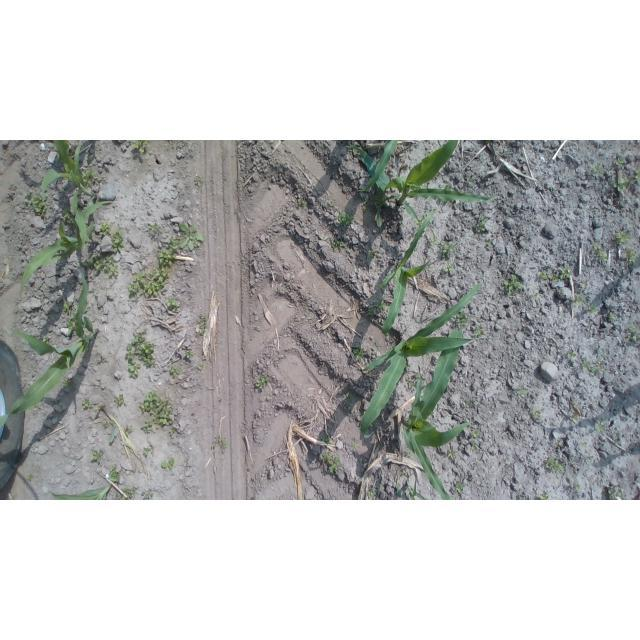Maize: (358, 282, 482, 442), (1, 271, 100, 430), (349, 140, 500, 229), (400, 328, 477, 500), (20, 200, 114, 298), (380, 209, 433, 334), (42, 141, 98, 248), (52, 483, 112, 500), (395, 478, 429, 500)
Weeds: (125, 330, 155, 378), (140, 391, 173, 434), (141, 267, 172, 297), (81, 254, 119, 276), (178, 224, 204, 253), (156, 235, 180, 266), (24, 191, 48, 221), (128, 271, 146, 302), (321, 451, 340, 474), (503, 275, 522, 296), (81, 166, 98, 188), (61, 207, 77, 229), (613, 177, 635, 192), (591, 243, 608, 262), (368, 298, 387, 315), (335, 211, 356, 226), (455, 310, 471, 329), (112, 230, 125, 253), (440, 241, 457, 257), (165, 296, 181, 313), (546, 457, 564, 472), (616, 231, 633, 246), (625, 246, 639, 264), (371, 196, 386, 211), (255, 376, 271, 390), (65, 314, 76, 334), (476, 214, 487, 233), (131, 140, 147, 153), (591, 361, 605, 375), (98, 221, 111, 236), (147, 223, 164, 234), (109, 466, 120, 483), (353, 347, 365, 362), (91, 450, 104, 463), (161, 458, 175, 470), (198, 314, 209, 329), (593, 163, 604, 177), (415, 215, 425, 230), (143, 443, 155, 455), (560, 266, 571, 279), (122, 488, 135, 499), (609, 489, 622, 500), (332, 241, 346, 251), (443, 263, 455, 274), (63, 377, 74, 389), (530, 409, 542, 420), (123, 425, 134, 436), (453, 483, 464, 494), (114, 394, 126, 404), (517, 386, 529, 396), (575, 293, 584, 306), (474, 326, 485, 336), (616, 157, 627, 167), (406, 378, 416, 389), (82, 398, 92, 409), (320, 436, 332, 445), (587, 304, 597, 314), (62, 302, 72, 312), (171, 367, 182, 376), (597, 419, 604, 433), (220, 441, 228, 453), (581, 361, 591, 370), (195, 176, 204, 186), (115, 492, 126, 500), (430, 234, 437, 246), (142, 492, 154, 499), (538, 271, 548, 279), (185, 350, 195, 358), (539, 493, 550, 500), (368, 488, 376, 497), (448, 450, 456, 459), (635, 169, 640, 183), (443, 185, 454, 191), (94, 404, 105, 410), (568, 350, 576, 358), (551, 274, 559, 282), (465, 177, 473, 185), (86, 154, 94, 162), (626, 333, 633, 342), (471, 431, 480, 438), (471, 441, 477, 451), (368, 251, 376, 258), (466, 399, 473, 407), (342, 391, 351, 397), (582, 281, 589, 288), (636, 330, 640, 342), (343, 405, 351, 411), (42, 336, 48, 344), (298, 200, 307, 205), (364, 196, 369, 205), (328, 200, 334, 207), (581, 441, 587, 448), (556, 439, 563, 445), (572, 414, 579, 420), (628, 325, 636, 330), (198, 330, 206, 335), (609, 313, 615, 319), (487, 239, 493, 245), (373, 341, 379, 347), (370, 421, 376, 427), (26, 475, 32, 481), (197, 364, 203, 370), (103, 421, 109, 427), (215, 436, 221, 442), (405, 364, 410, 371), (98, 355, 103, 362), (170, 429, 175, 436), (614, 441, 620, 446), (533, 293, 538, 299), (362, 207, 367, 213), (351, 442, 357, 447), (575, 484, 580, 490), (404, 469, 409, 474), (551, 189, 556, 194), (407, 450, 411, 456)
